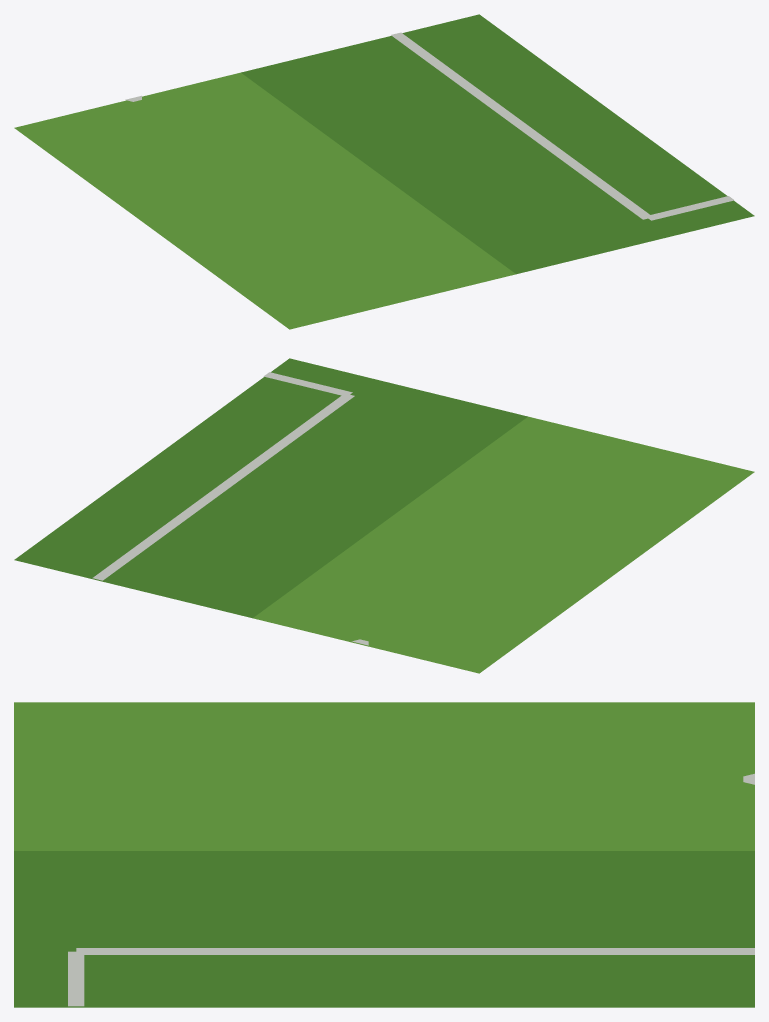
The model's file is pitch_f_10_4.glb.
The picture shows the model from 3 angles, top to bottom: view 1: azimuth 30°, elevation 25°; view 2: azimuth 150°, elevation 25°; view 3: azimuth 270°, elevation 25°; orthographic projection. The views are drawn at different scales.
Parts seen in each view (by area): view 1: pitch_f_10_4; view 2: pitch_f_10_4; view 3: pitch_f_10_4.
Part boxes in pixels (<box>): pitch_f_10_4: <box>14,14,754,329</box>; pitch_f_10_4: <box>14,358,754,673</box>; pitch_f_10_4: <box>14,702,754,1007</box>.
Size of the model in its own units: 9.75 by 0.02 by 10.
